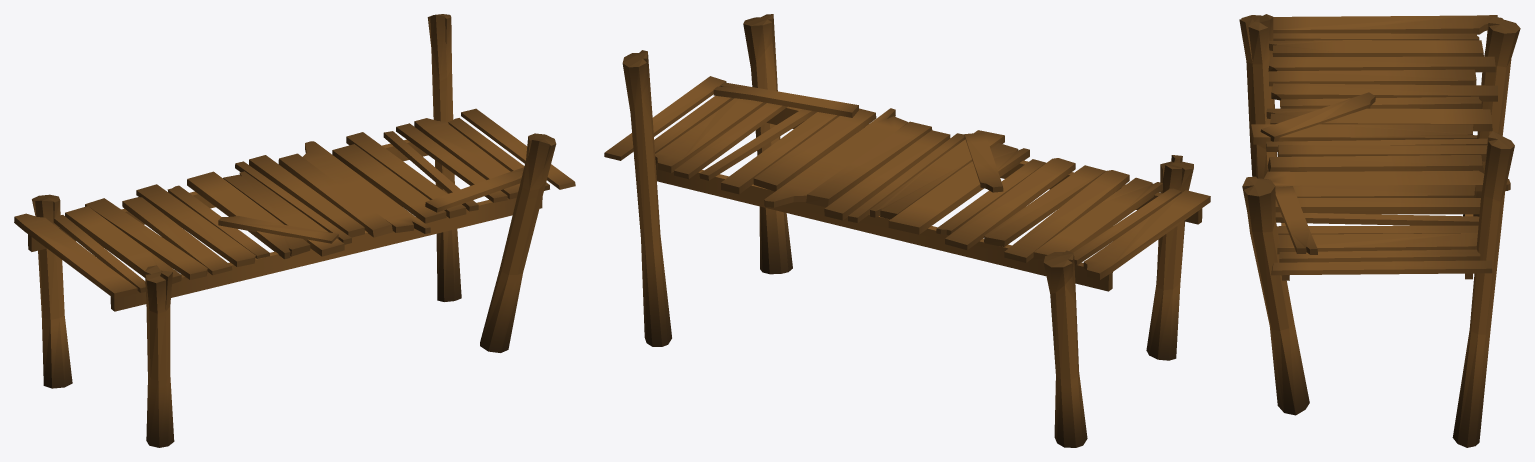
Rendered from Pond_Boardwalk-03.FBX.
3 views of the same model, side by side, from view 1: azimuth 30°, elevation 25°; view 2: azimuth 150°, elevation 25°; view 3: azimuth 270°, elevation 25° (orthographic). The views are drawn at different scales.
Parts seen in each view (by area): view 1: Pond_Boardwalk-03; view 2: Pond_Boardwalk-03; view 3: Pond_Boardwalk-03.
Part boxes in pixels (left/top/right/bottom): Pond_Boardwalk-03: left=14, top=14, right=575, bottom=447; Pond_Boardwalk-03: left=604, top=14, right=1210, bottom=447; Pond_Boardwalk-03: left=1239, top=14, right=1520, bottom=447.
Bounding box in the file's own units: 737 × 423 × 347.
1 material, 1 textured.
